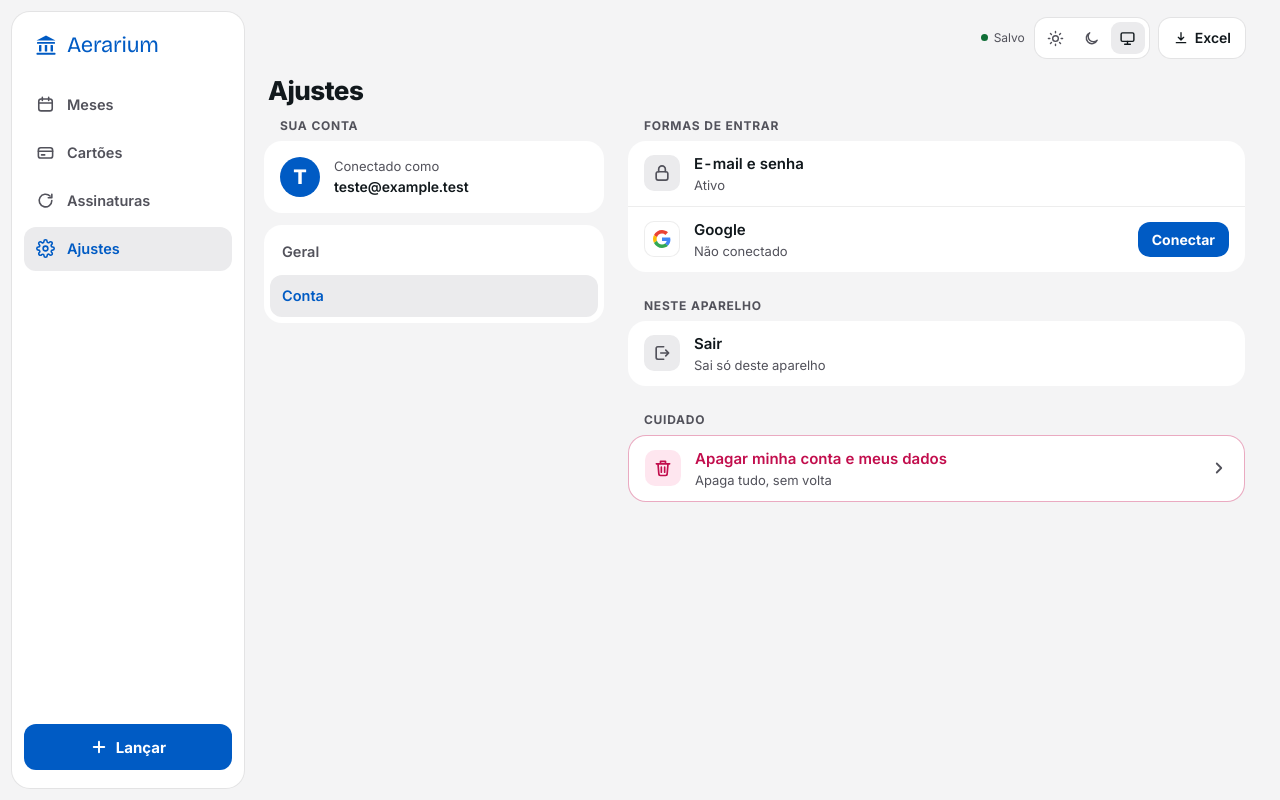
apagar minha conta › se falhar, explica e continua no modal
The width and height of the screenshot is (1280, 800).
Click the button "Apagar minha conta e meus dados": (936, 468) [629, 436, 1244, 501]
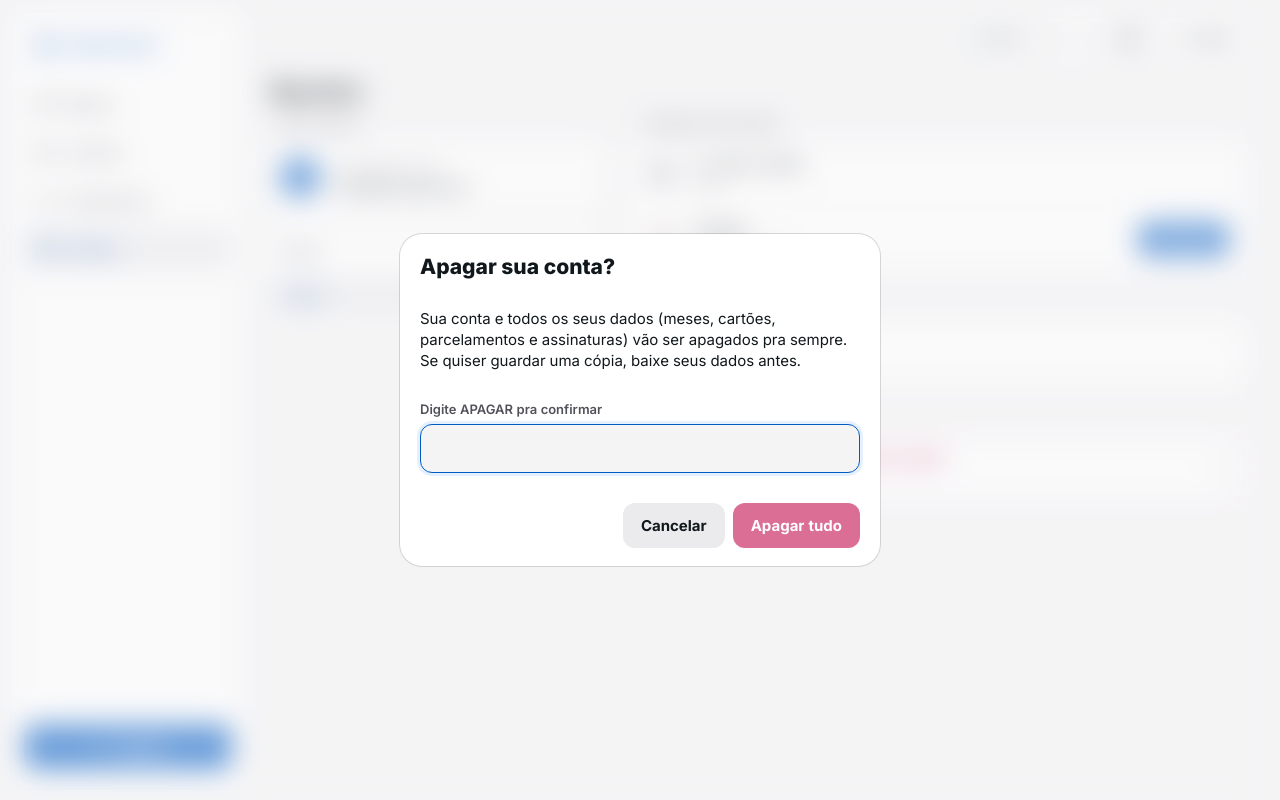
In the field labelled "Digite APAGAR pra confirmar": (640, 449) [420, 424, 860, 473], type "APAGAR"
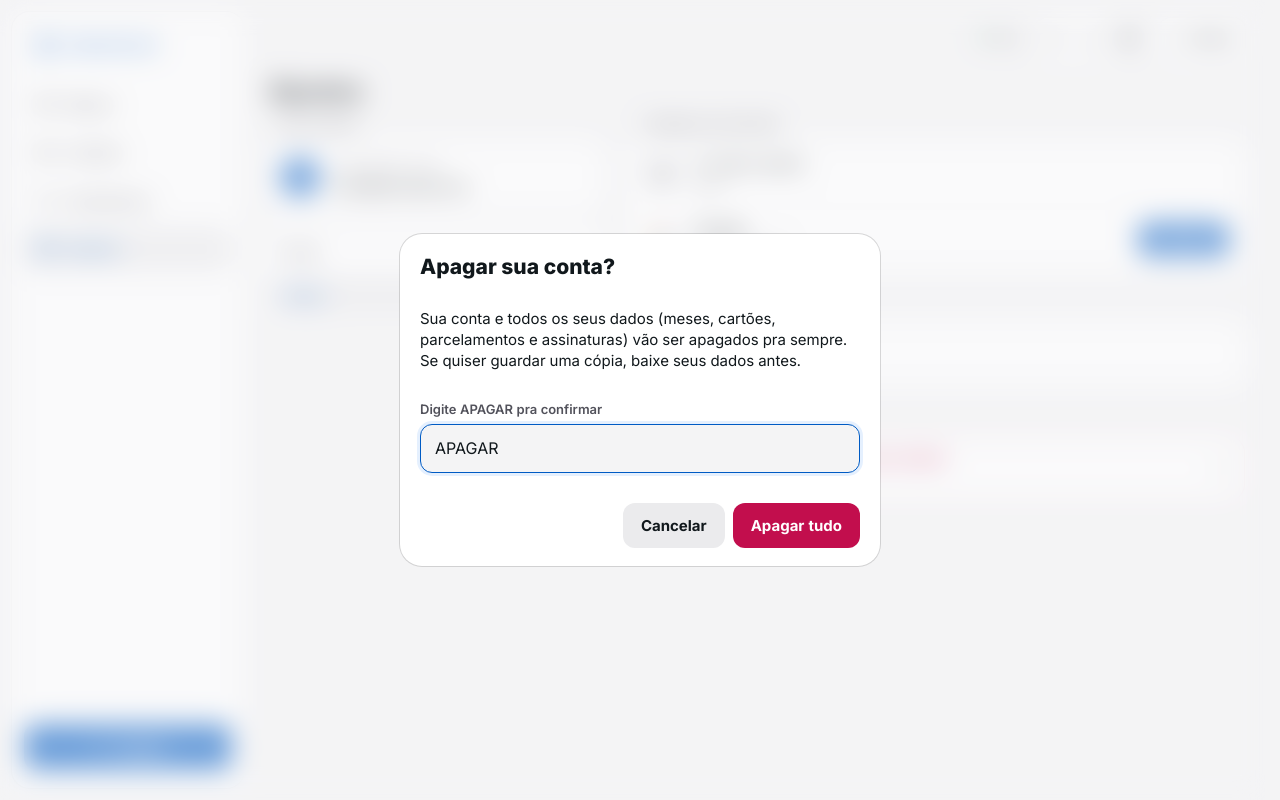
Click the button "Apagar tudo": (796, 525) [733, 503, 860, 548]
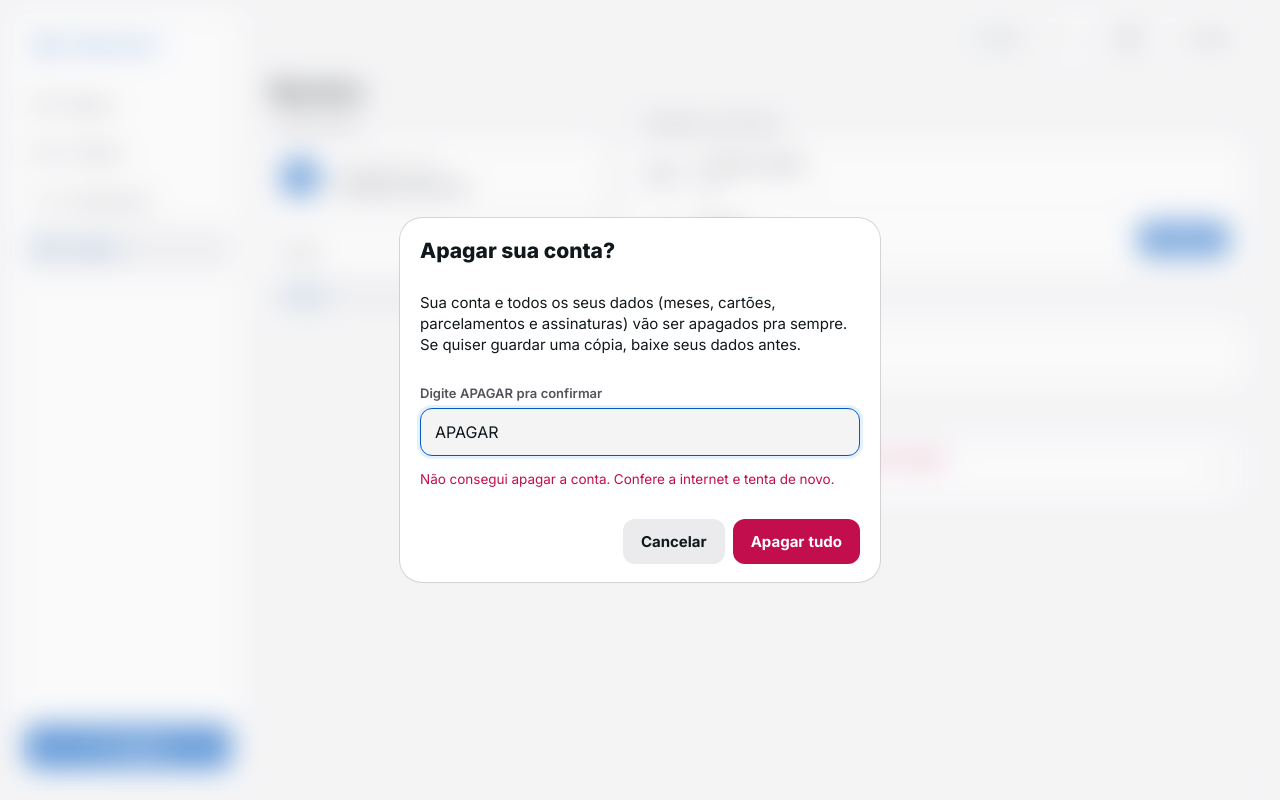
expect the dialog is shown: met, box [400, 218, 880, 582]
expect the text "Não consegui apagar a conta. Confere a internet e tenta de novo." is shown: met, box [420, 470, 860, 489]
